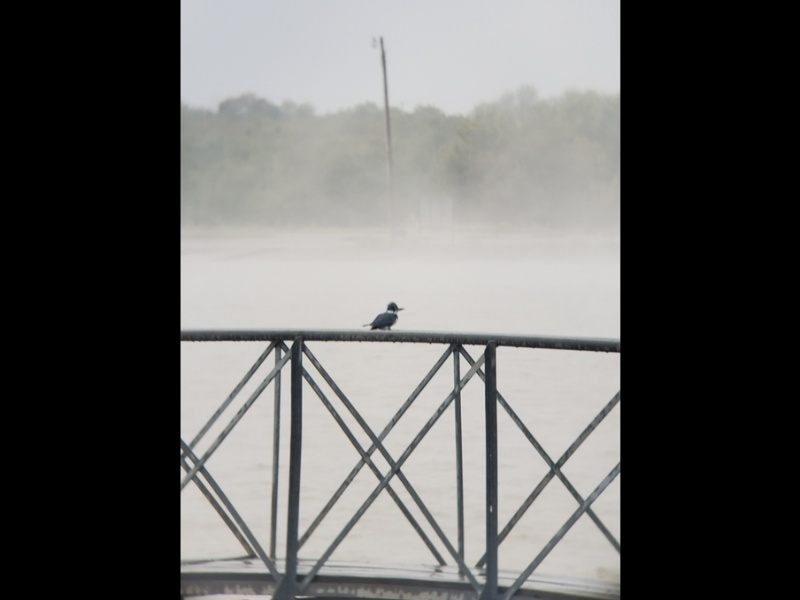kingfisher: (365, 301, 406, 332)
